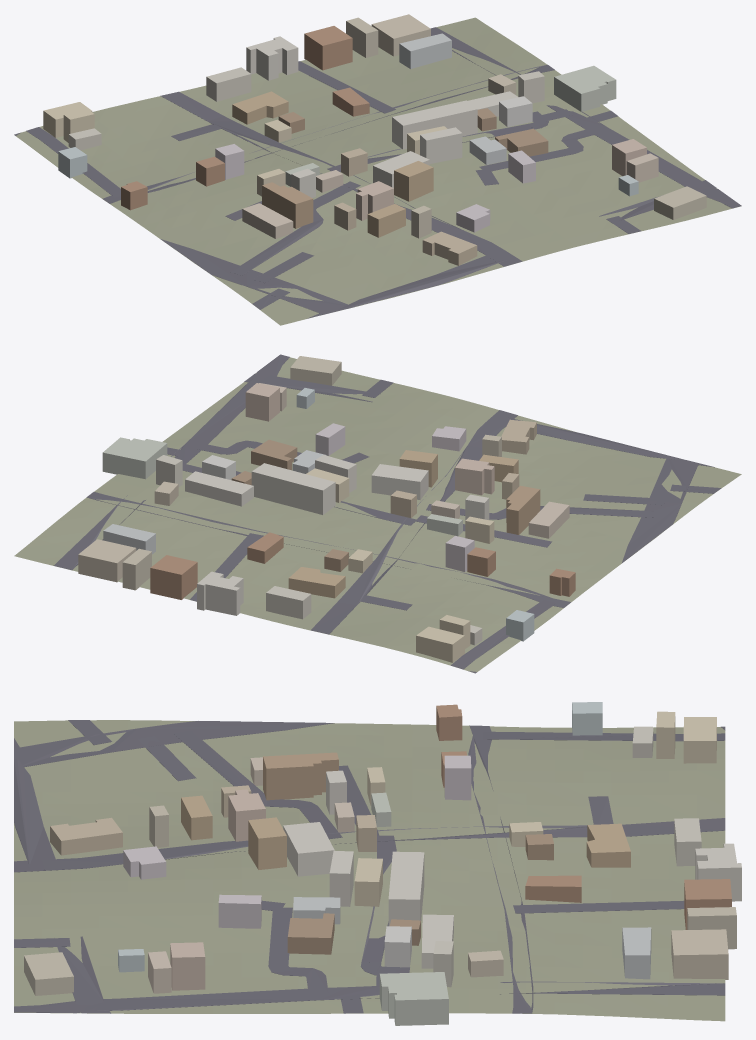
Rendered from chunk_9_6.glb.
3 views of the same model, one above another, from view 1: azimuth 30°, elevation 25°; view 2: azimuth 150°, elevation 25°; view 3: azimuth 270°, elevation 25° (orthographic). The views are drawn at different scales.
Parts seen in each view (by area): view 1: geometry_48, geometry_52, geometry_65, geometry_24, geometry_49, geometry_42, geometry_53, geometry_25, geometry_29, geometry_16, geometry_56, geometry_26 (+39 smaller); view 2: geometry_48, geometry_24, geometry_52, geometry_65, geometry_53, geometry_49, geometry_42, geometry_29, geometry_26, geometry_25, geometry_1, geometry_43 (+37 smaller); view 3: geometry_48, geometry_53, geometry_65, geometry_52, geometry_49, geometry_42, geometry_16, geometry_26, geometry_24, geometry_56, geometry_1, geometry_8 (+47 smaller).
Part boxes in pixels (x1,y1,x2,y2): geometry_48: [14, 17, 741, 325]; geometry_52: [160, 91, 508, 258]; geometry_65: [160, 239, 352, 314]; geometry_24: [392, 100, 477, 149]; geometry_49: [338, 180, 716, 310]; geometry_42: [554, 65, 616, 111]; geometry_53: [430, 27, 707, 187]; geometry_25: [246, 36, 298, 80]; geometry_29: [304, 26, 352, 70]; geometry_16: [262, 182, 313, 228]; geometry_56: [230, 181, 360, 275]; geometry_26: [371, 14, 430, 56]; geometry_48: [14, 357, 741, 672]; geometry_24: [251, 463, 335, 514]; geometry_52: [311, 418, 507, 634]; geometry_65: [622, 458, 698, 562]; geometry_53: [54, 378, 263, 570]; geometry_49: [244, 373, 682, 460]; geometry_42: [102, 437, 167, 479]; geometry_29: [150, 555, 197, 599]; geometry_26: [78, 539, 136, 582]; geometry_25: [197, 571, 243, 615]; geometry_1: [371, 464, 428, 500]; geometry_43: [185, 471, 253, 506]; geometry_48: [14, 720, 725, 1021]; geometry_53: [93, 981, 725, 1010]; geometry_65: [14, 721, 334, 767]; geometry_52: [42, 818, 725, 870]; geometry_49: [14, 758, 110, 1013]; geometry_42: [379, 972, 448, 1025]; geometry_16: [263, 752, 338, 800]; geometry_26: [671, 929, 728, 979]; geometry_24: [388, 851, 424, 926]; geometry_56: [174, 730, 342, 839]; geometry_1: [283, 822, 334, 876]; geometry_8: [50, 817, 122, 855].
Size of the model in its own units: 260 by 19.81 by 256.
